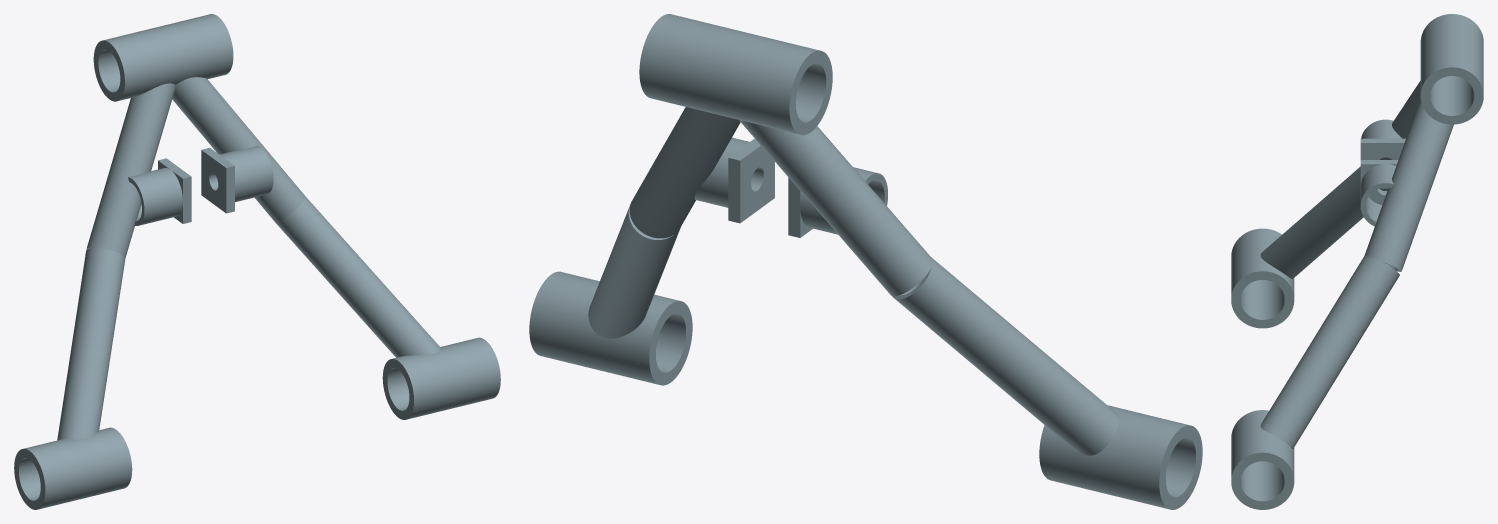
File: lower_wishbone_C02_R02.glb
The picture shows the model from 3 angles, left to right: view 1: azimuth 30°, elevation 25°; view 2: azimuth 150°, elevation 25°; view 3: azimuth 270°, elevation 25°; orthographic projection. The views are drawn at different scales.
Visible parts, largest first — view 1: lower_wishbone_C02_R02; view 2: lower_wishbone_C02_R02; view 3: lower_wishbone_C02_R02.
Boxes of the visible parts, bbox=[...] form: lower_wishbone_C02_R02: bbox=[14, 14, 500, 509]; lower_wishbone_C02_R02: bbox=[529, 14, 1202, 509]; lower_wishbone_C02_R02: bbox=[1231, 14, 1483, 509].
Size of the model in its own units: 0.42 by 0.312 by 0.2.
